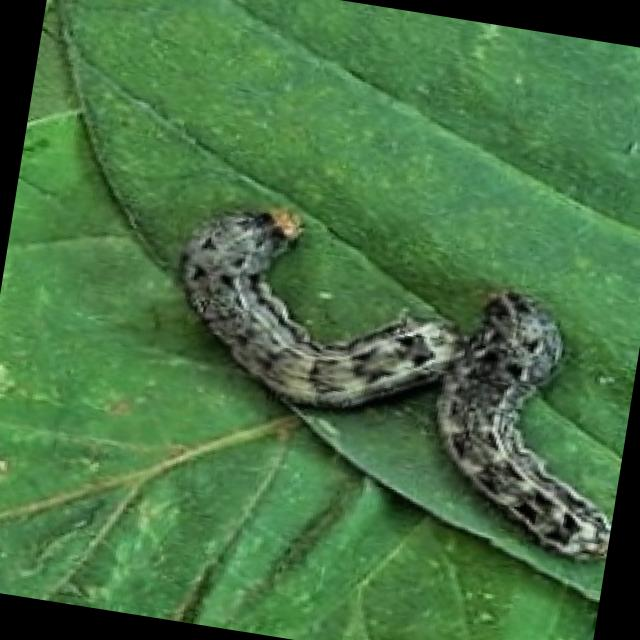Armyworm: (120, 186, 477, 458), (371, 270, 640, 618)
